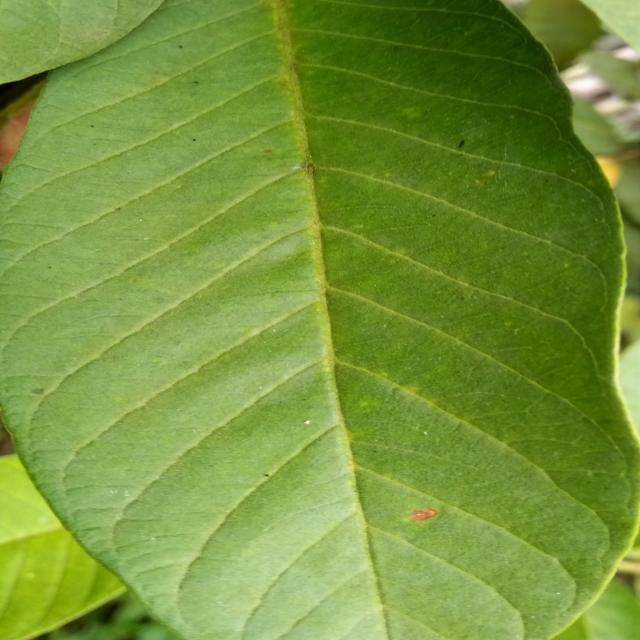Disease Free: (2, 0, 637, 640)
